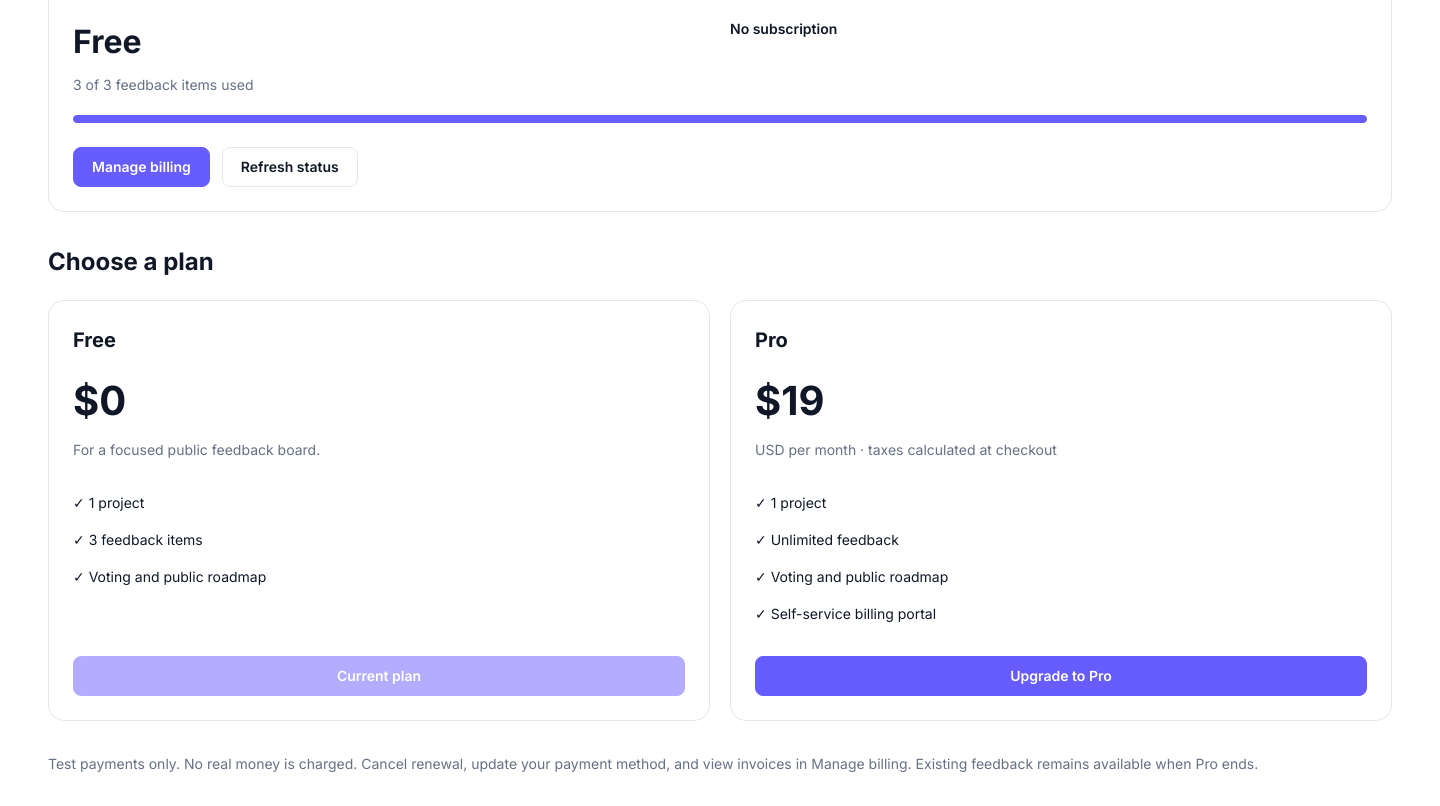
Test: Billing payment confirmation UX › reports Paddle checkout.error without granting Pro
The image size is (1440, 806).
(page scrolled)
Click the button "Upgrade to Pro": (1061, 676) [755, 656, 1367, 696]
(page scrolled)
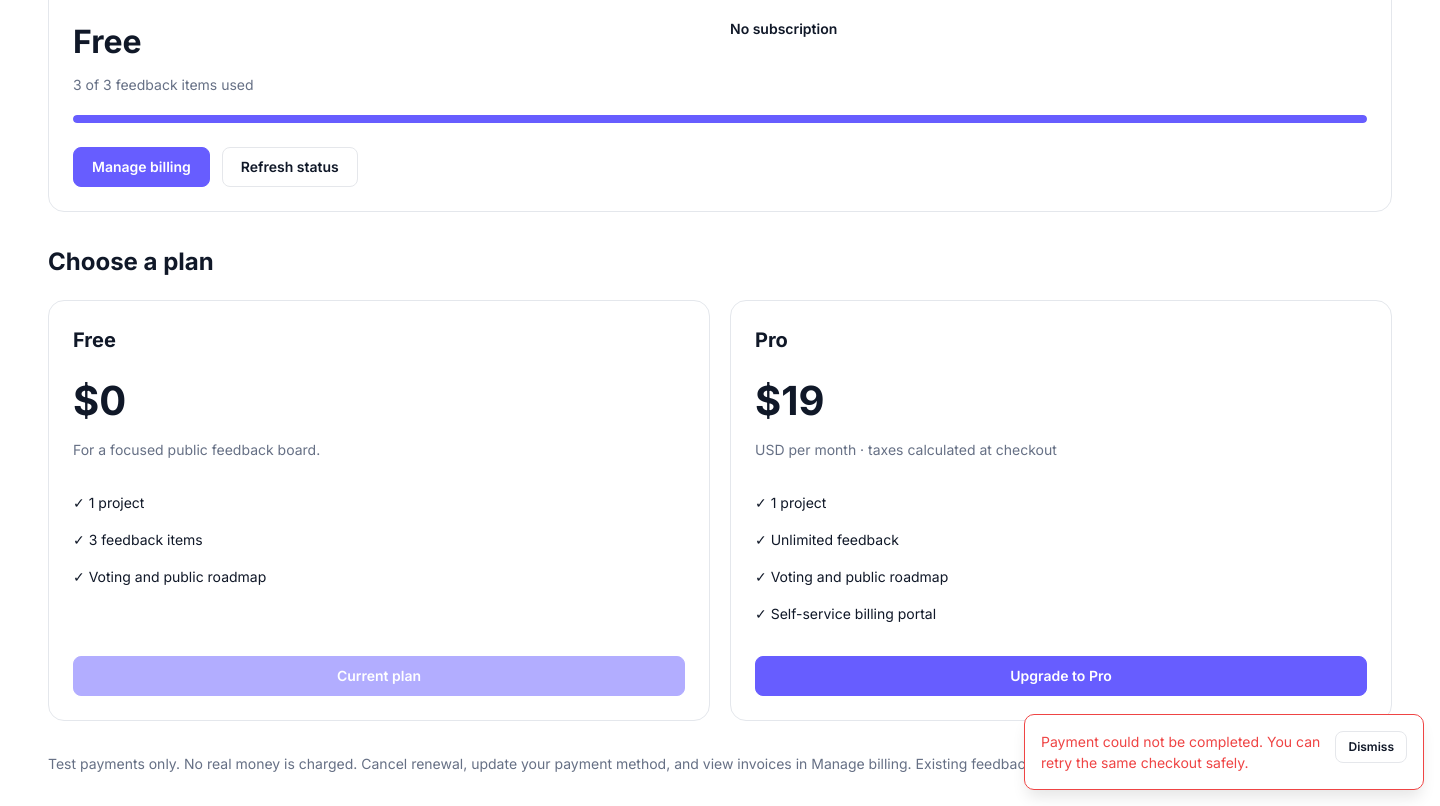
Expected: the heading "Free" next to "No subscription" is shown, [73, 22, 142, 61]
Now the message reads "Payment could not be completed. You can retry the same checkout safely.", box [1041, 733, 1320, 771]
